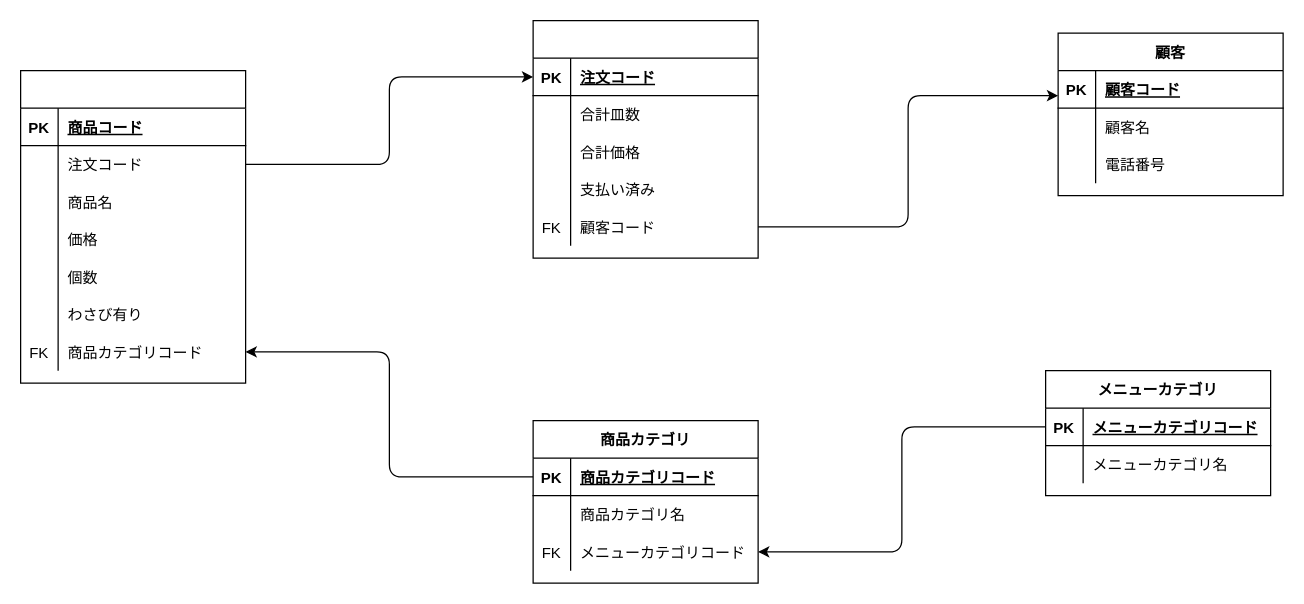
Some shapes in this 1304 by 604 pixel diagram are drawn without their labels. Here are the shapes that lost their labels. From the top down, the box of each, then its label:
(532, 19, 758, 258): 注文表
(19, 69, 246, 383): 商品
